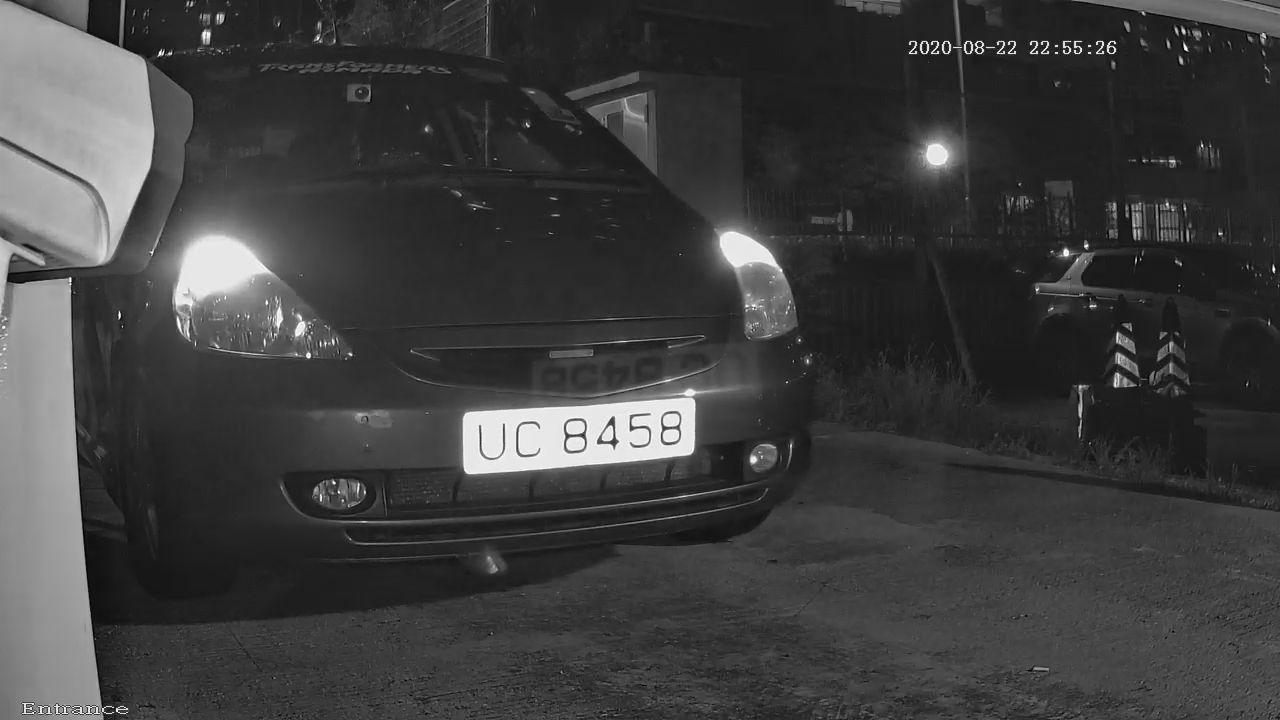Car: (18, 23, 915, 634)
License Plate: (414, 349, 735, 517)
